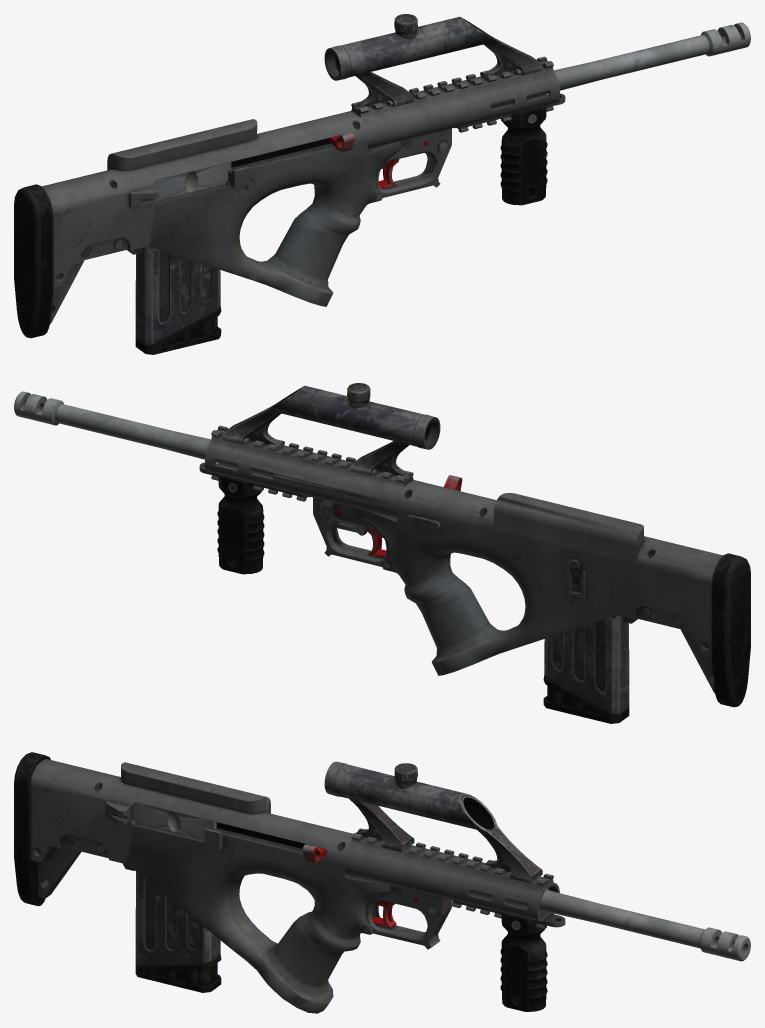
File: Aug.fbx
3 renders of one model, top to bottom at view 1: azimuth 30°, elevation 25°; view 2: azimuth 150°, elevation 25°; view 3: azimuth 330°, elevation 25°, orthographic.
Visible parts, largest first — view 1: Aug; view 2: Aug; view 3: Aug.
Part boxes in pixels (box(x1,y1,x2,y2)): Aug: box(14, 14, 750, 354); Aug: box(14, 383, 750, 723); Aug: box(14, 752, 750, 1013).
Size of the model in its own units: 495 by 175 by 42.01.
1 material, 1 textured.
